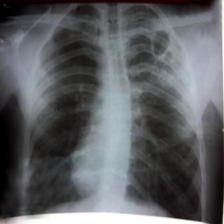tuberculosis: (19, 2, 205, 213)
